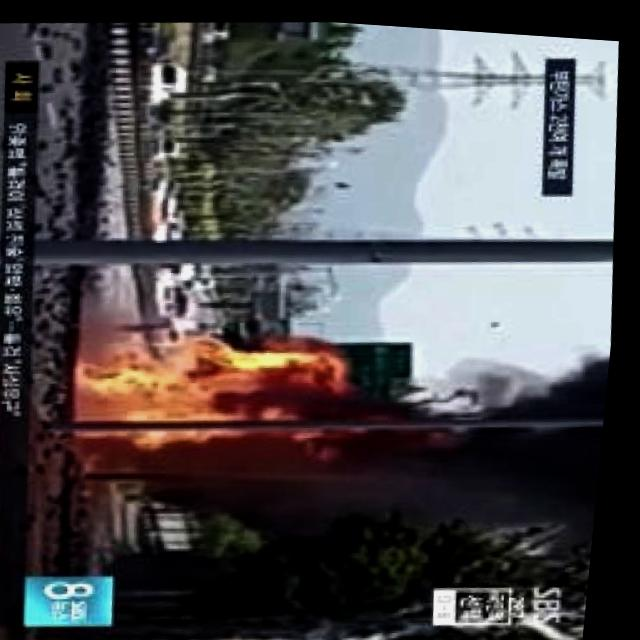helmet: (66, 312, 365, 460)
no_helmet: (178, 392, 611, 549), (495, 332, 617, 418)
